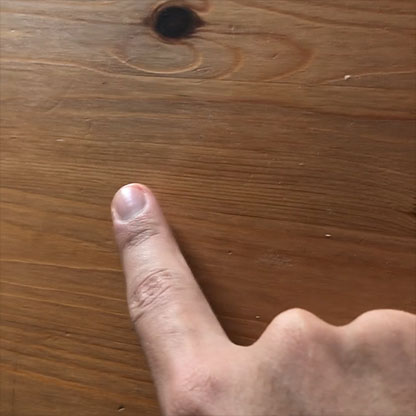fingertip: (93, 178, 168, 243)
